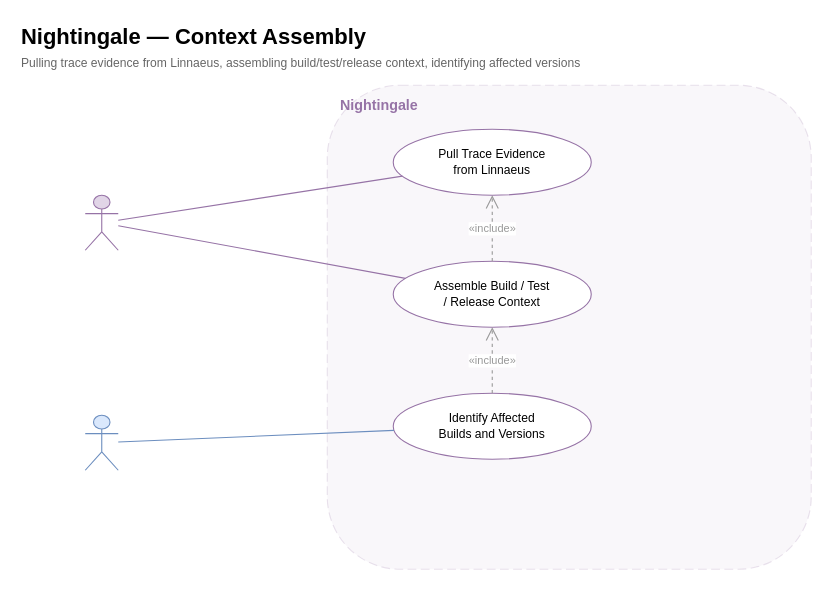
Image size: 831x589. Some labels were removed from this diagram. The centre of each missing label's shape, as x and y in pixels:
"Jira (Bug Record)" belongs at (x=101, y=442).
"Linnaeus (Trace Evidence)" belongs at (x=101, y=222).
